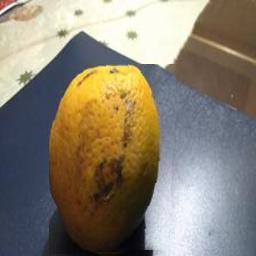Orange Semifresh: (49, 65, 177, 256)
